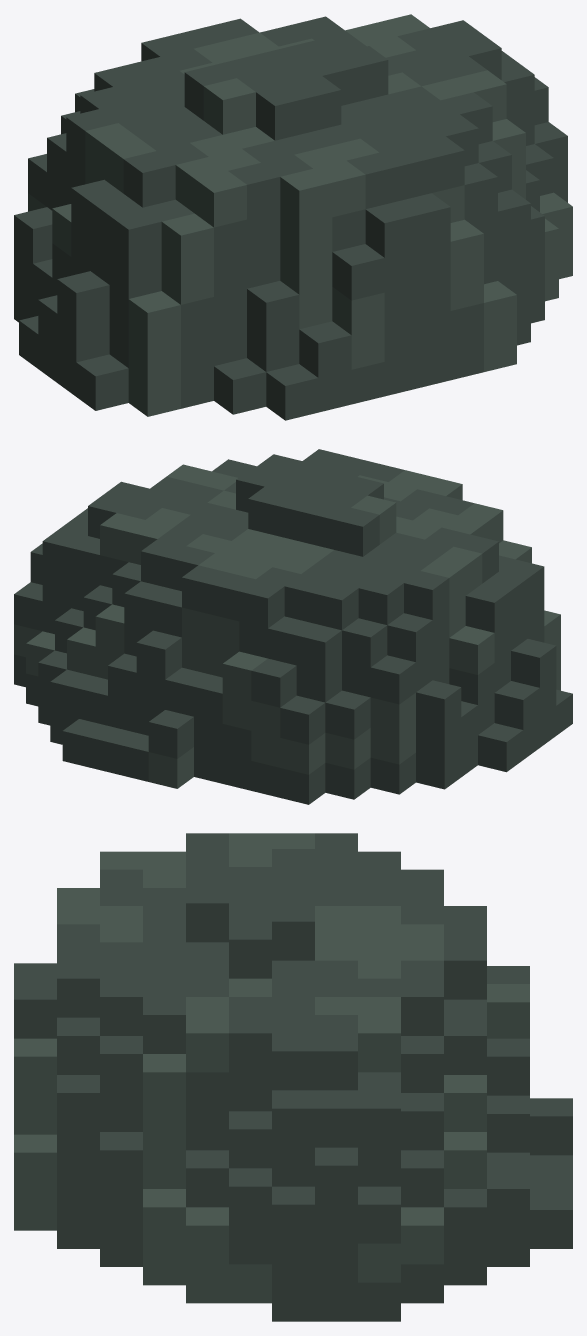
Rendered from Stone3.obj.
3 renders of one model, top to bottom at view 1: azimuth 30°, elevation 25°; view 2: azimuth 150°, elevation 25°; view 3: azimuth 270°, elevation 25°, orthographic. The views are drawn at different scales.
Visible parts, largest first — view 1: Stone3; view 2: Stone3; view 3: Stone3.
Part boxes in pixels (x1,y1,x2,y2): Stone3: (14, 14, 572, 420); Stone3: (14, 449, 572, 804); Stone3: (14, 833, 572, 1321).
Bounding box in the file's own units: 1.6 × 0.7 × 1.3.
1 material, 1 textured.
